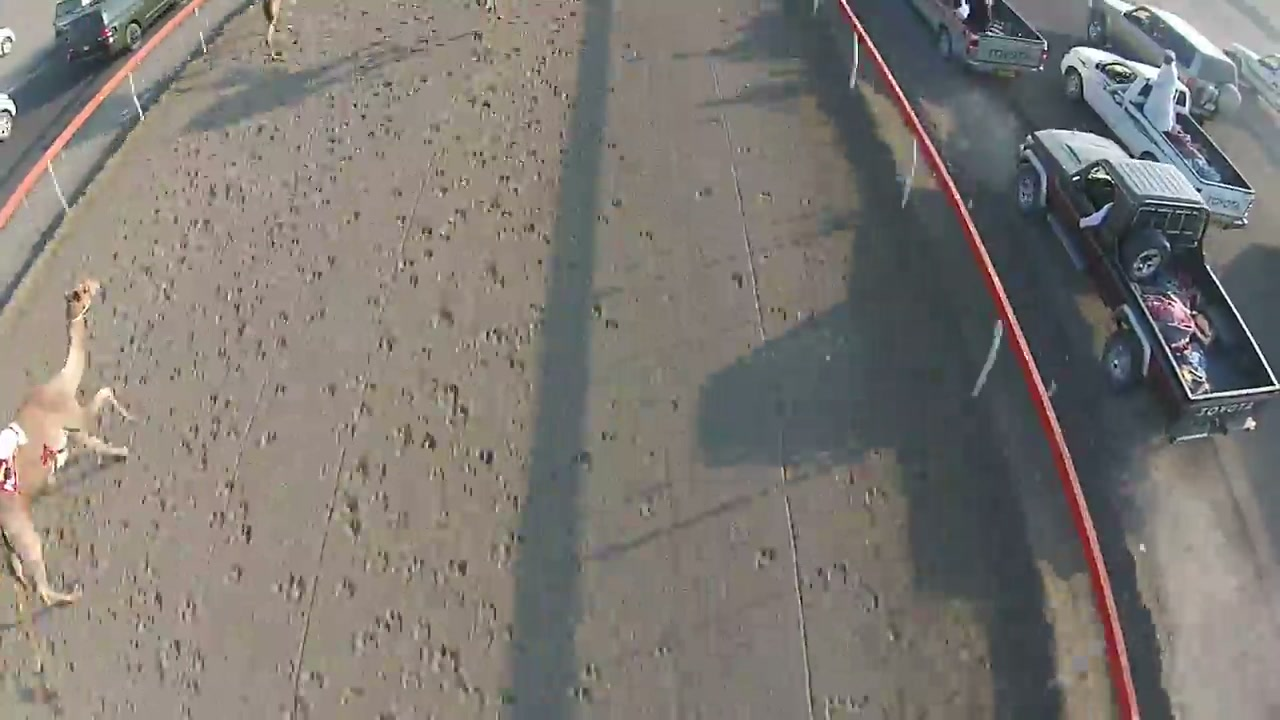animal_footprint: (351, 86, 539, 697), (149, 226, 309, 704)
